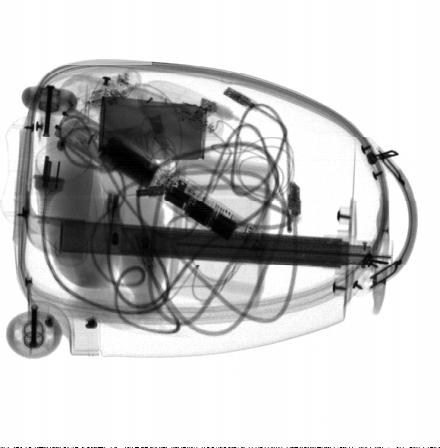Baton: (53, 105, 259, 252)
